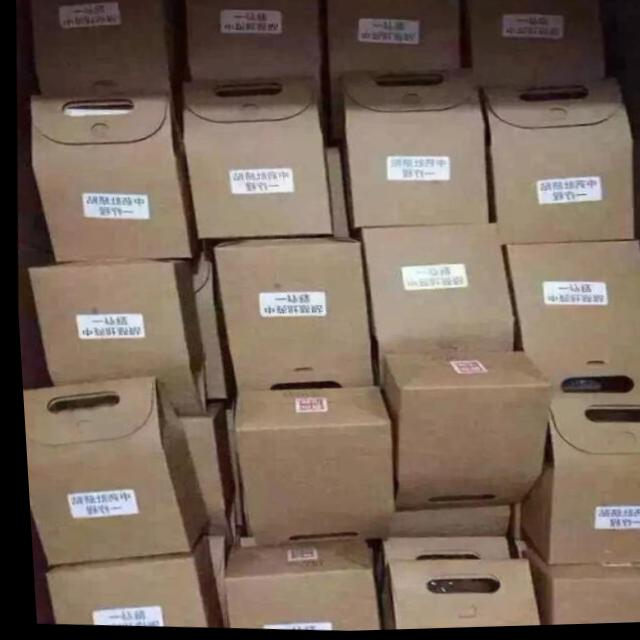box: (18, 376, 199, 565), (25, 259, 204, 417), (29, 95, 198, 261), (375, 353, 548, 514), (478, 81, 633, 249), (228, 388, 389, 548), (357, 225, 512, 388), (210, 238, 370, 393), (180, 78, 331, 240), (339, 71, 487, 232), (516, 399, 640, 567), (39, 530, 223, 629), (501, 243, 640, 373), (215, 541, 375, 633), (30, 0, 181, 95), (460, 0, 605, 91), (176, 0, 326, 82), (370, 560, 532, 632), (325, 0, 463, 76), (514, 547, 640, 628), (174, 403, 239, 548), (187, 255, 233, 399), (371, 539, 505, 570), (538, 364, 640, 401), (380, 509, 505, 539), (326, 149, 346, 240), (500, 505, 525, 561), (327, 76, 342, 141), (194, 240, 223, 257)
